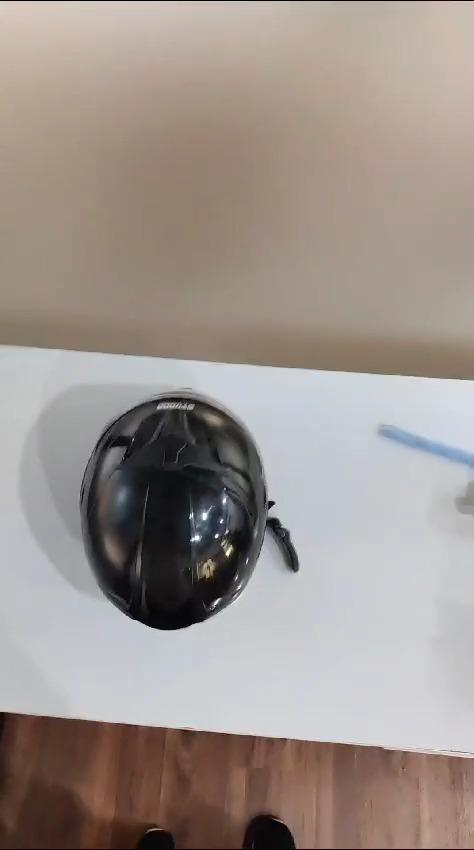Helmet: (78, 388, 271, 628)
